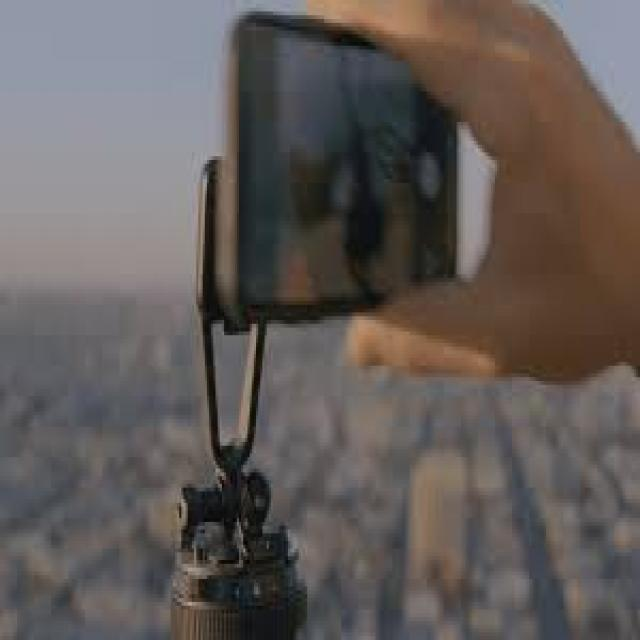Phone: (225, 10, 464, 318)
